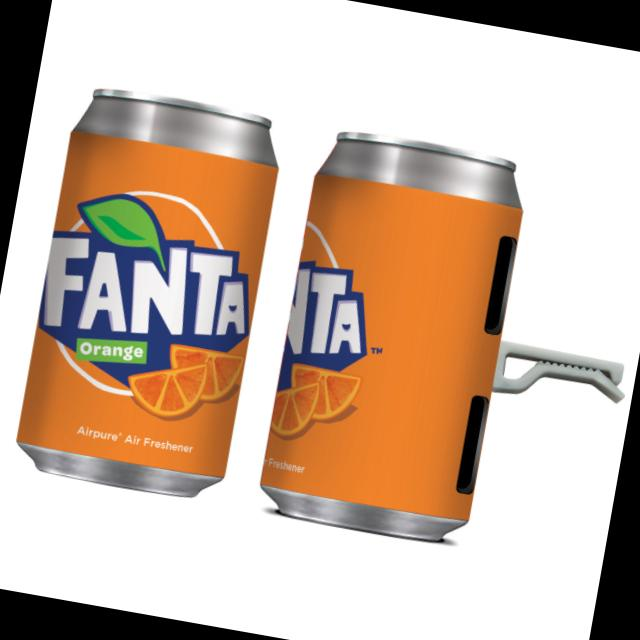fanta: (8, 82, 291, 511), (257, 124, 538, 550)
